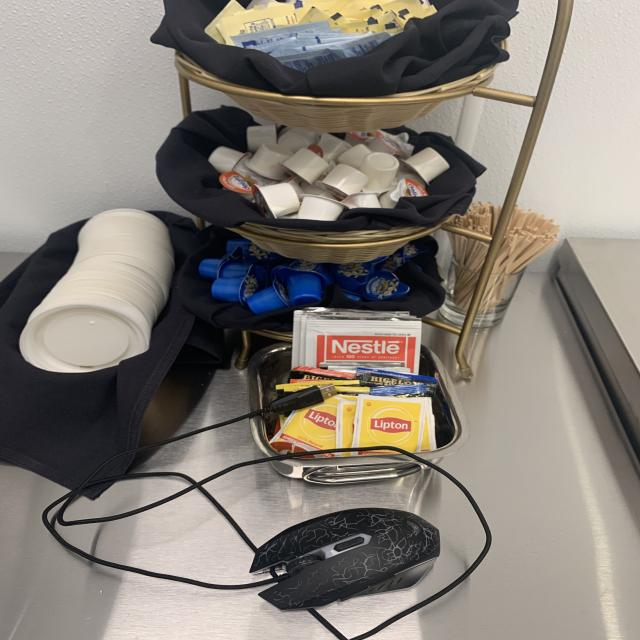Mouse: (212, 505, 449, 616)
